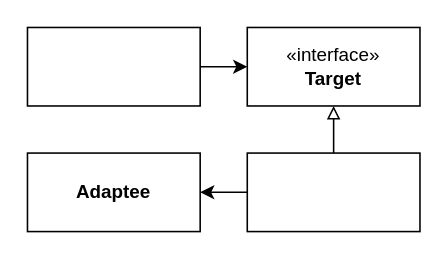
Some shapes in this 447 by 259 pixel diagram are drawn without their labels. Each missing label, with the centre of its shape:
Adapter: the point at 333,192
Client: the point at 113,66
